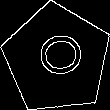O_W: (30, 35, 84, 83)
